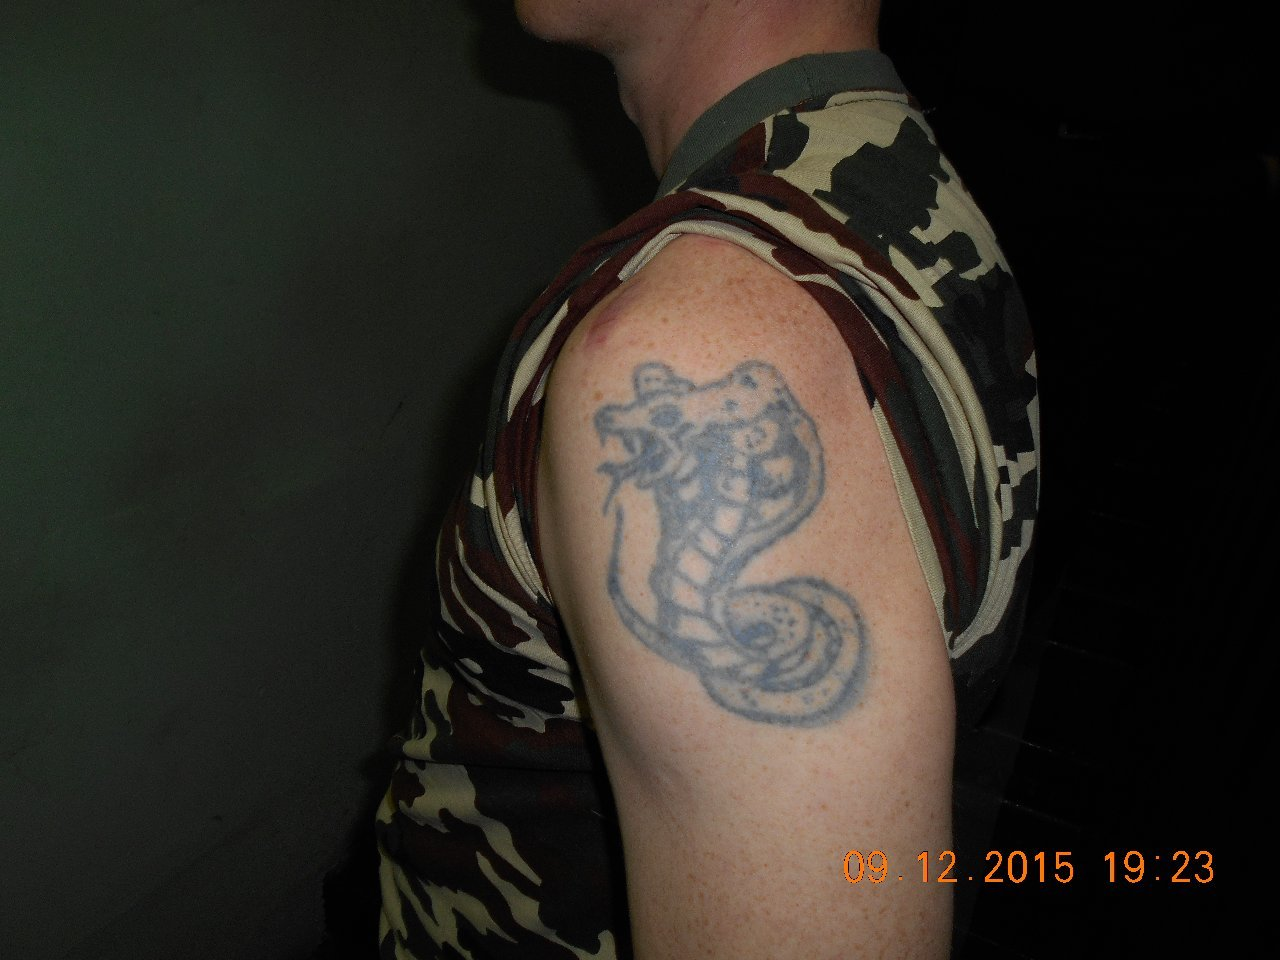tatu7_zmeya: (591, 357, 873, 732)
